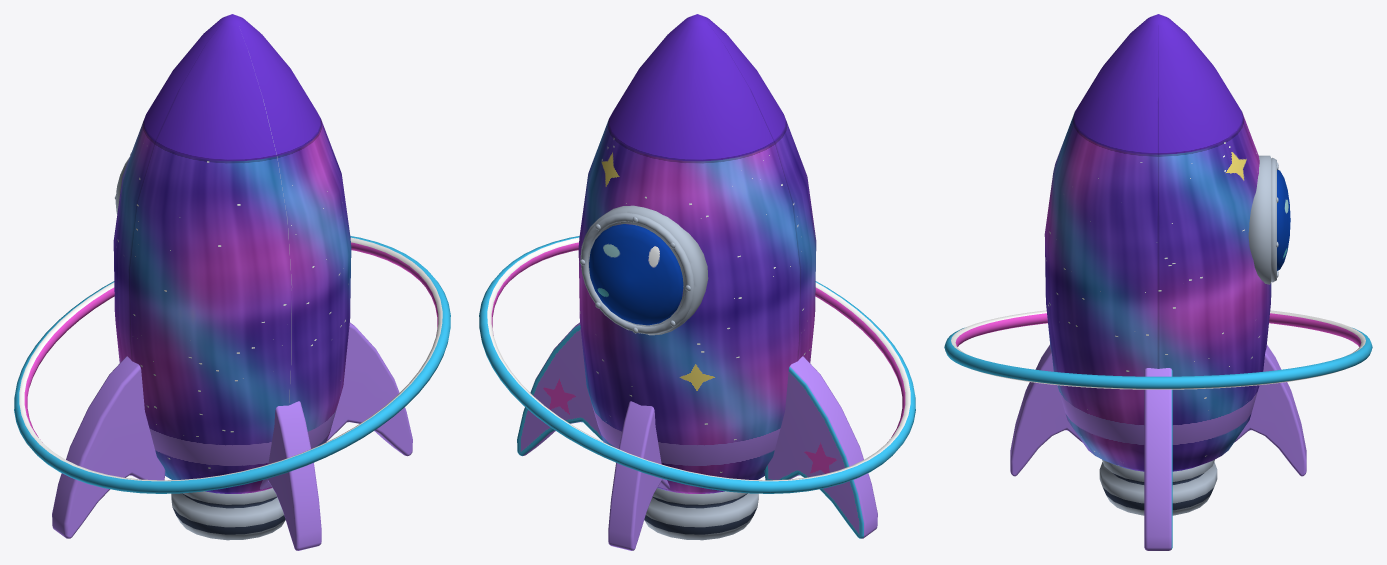
File: rocket_mitico.fbx
3 views of the same model, side by side, from view 1: azimuth 30°, elevation 25°; view 2: azimuth 150°, elevation 25°; view 3: azimuth 270°, elevation 25° (orthographic). The views are drawn at different scales.
Parts seen in each view (by area): view 1: Body, Fins, Ring, Nozzle; view 2: Body, Fins, Ring, Window, Nozzle; view 3: Body, Fins, Ring, Nozzle, Window.
Boxes of the visible parts, <box> form: Body: <box>113,14,351,493</box>; Fins: <box>52,322,412,550</box>; Ring: <box>14,236,450,493</box>; Nozzle: <box>171,488,285,540</box>; Body: <box>578,14,816,493</box>; Fins: <box>517,322,877,550</box>; Ring: <box>479,236,915,493</box>; Window: <box>589,224,683,325</box>; Nozzle: <box>644,488,758,540</box>; Body: <box>1044,14,1278,471</box>; Fins: <box>1010,344,1306,550</box>; Ring: <box>944,310,1372,389</box>; Nozzle: <box>1099,459,1217,515</box>; Window: <box>1277,170,1290,270</box>.
Bounding box in the file's own units: 2.18 × 2.8 × 2.26.
Materials: 4 (4 with a texture image).
